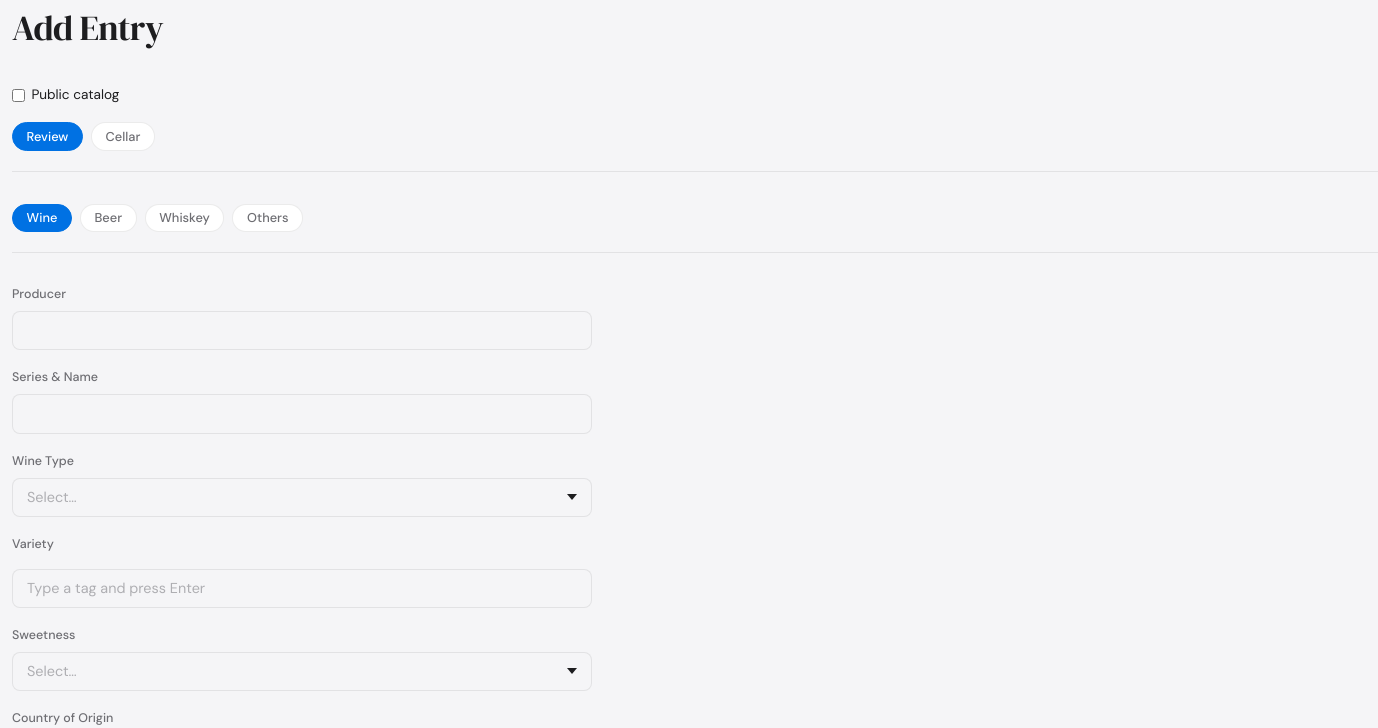
it: switches to others fields when Others tab is clicked
Click the button "Others" at (268, 218), box left=232, top=204, right=303, bottom=232
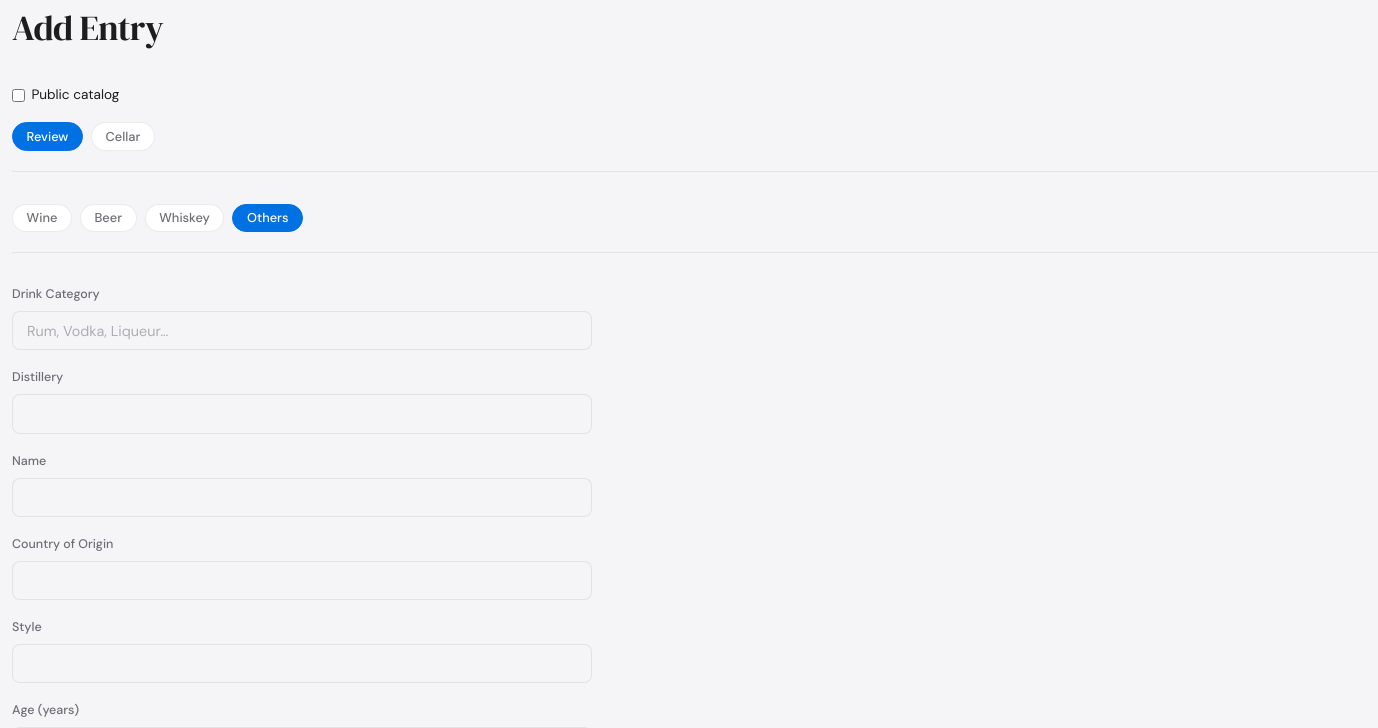
Check: the field labelled "Drink Category" is shown, box left=12, top=311, right=592, bottom=350
